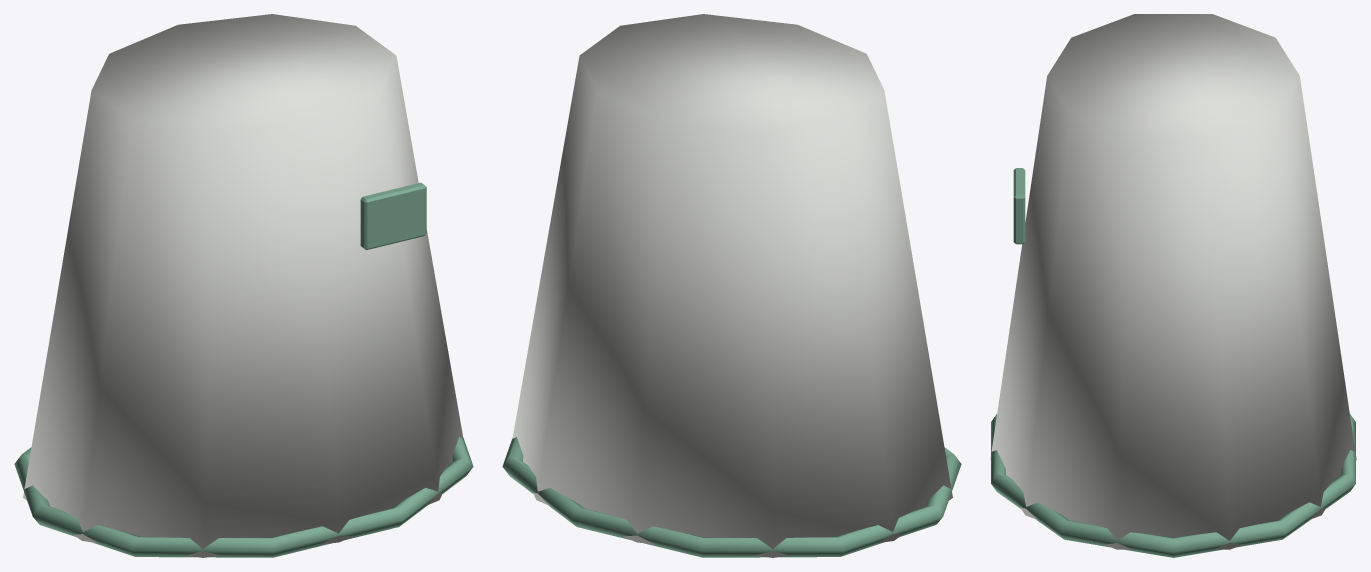
The model's file is npc_labcoat.glb.
The picture shows the model from 3 angles, left to right: view 1: azimuth 30°, elevation 25°; view 2: azimuth 150°, elevation 25°; view 3: azimuth 270°, elevation 25°; orthographic projection. The views are drawn at different scales.
Visible parts, largest first — view 1: part.npc_labcoat; view 2: part.npc_labcoat; view 3: part.npc_labcoat.
Boxes of the visible parts, box(x1,y1,x2,y2) form: part.npc_labcoat: box(14, 14, 473, 557); part.npc_labcoat: box(502, 14, 961, 557); part.npc_labcoat: box(990, 14, 1356, 557).
Size of the model in its own units: 0.608 by 0.5533 by 0.4756.
